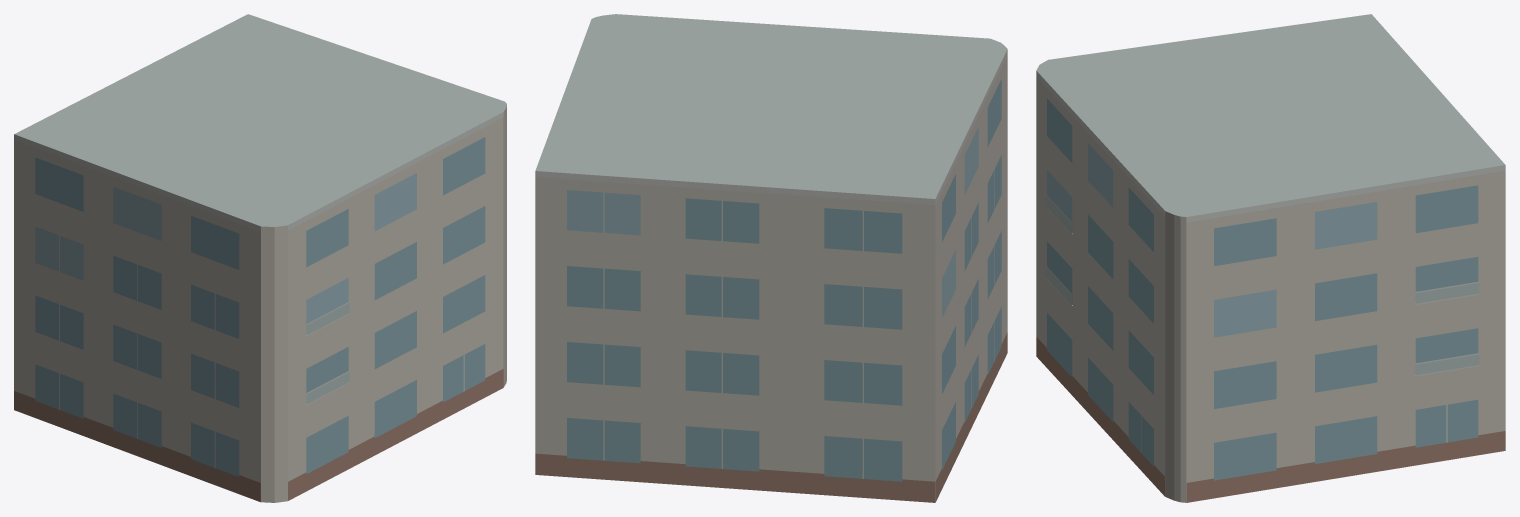
File: survey-upis-32863607.glb
The picture shows the model from 3 angles, left to right: view 1: azimuth 30°, elevation 25°; view 2: azimuth 150°, elevation 25°; view 3: azimuth 270°, elevation 25°; orthographic projection. The views are drawn at different scales.
Parts seen in each view (by area): view 1: survey-upis-32863607.tmp; view 2: survey-upis-32863607.tmp; view 3: survey-upis-32863607.tmp.
Boxes of the visible parts, x1,y1,x2,y2 form: survey-upis-32863607.tmp: (14, 14, 506, 502); survey-upis-32863607.tmp: (535, 14, 1007, 502); survey-upis-32863607.tmp: (1036, 14, 1505, 502).
Bounding box in the file's own units: 18.9 × 12.4 × 18.46.
